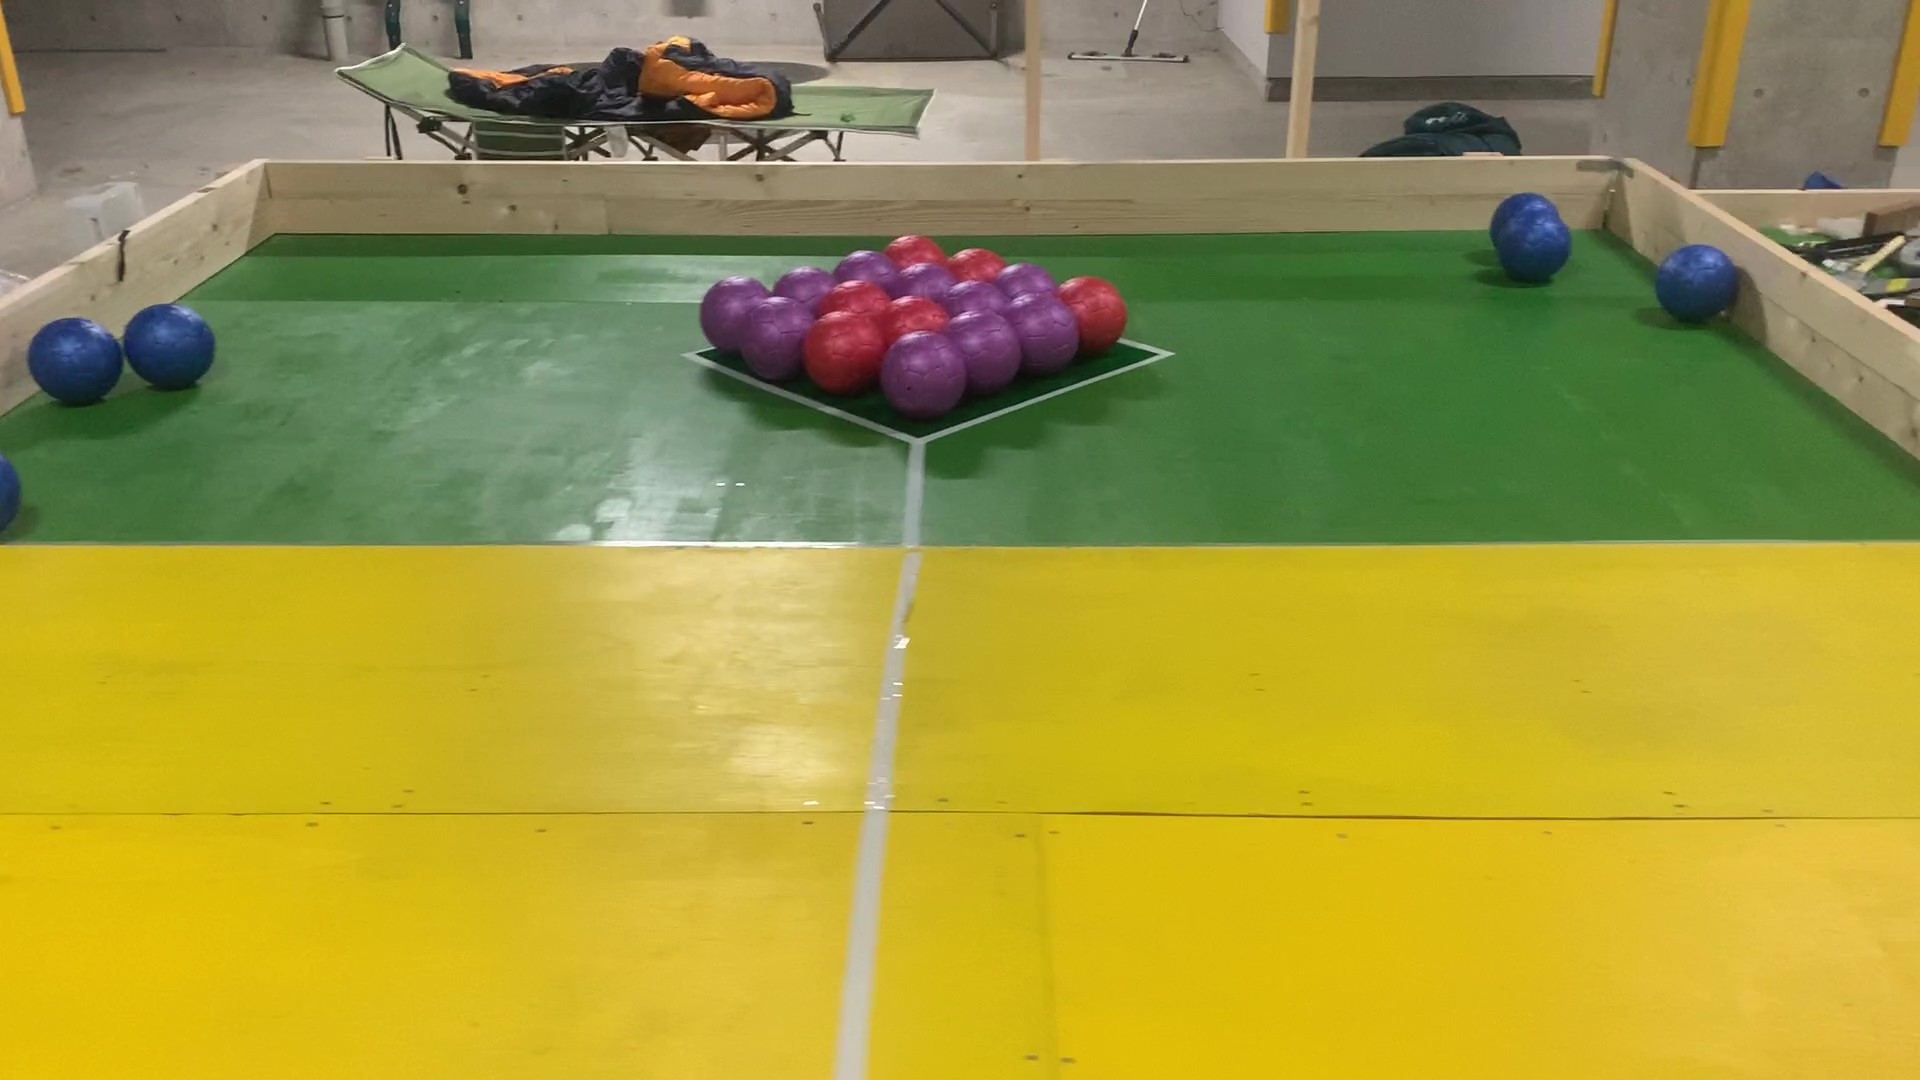blue: (28, 323, 120, 400), (131, 314, 206, 384), (1668, 247, 1730, 311), (1506, 220, 1565, 281), (1498, 189, 1563, 216), (0, 465, 20, 530)
purple: (893, 332, 952, 405), (967, 313, 1010, 386), (752, 303, 798, 371), (1025, 295, 1069, 361), (707, 281, 745, 357), (778, 265, 824, 301), (952, 281, 1004, 313), (1009, 264, 1054, 298), (843, 244, 885, 277), (902, 269, 949, 293)
red: (810, 315, 870, 380), (1077, 280, 1129, 351), (886, 233, 944, 262), (887, 295, 938, 326), (952, 245, 1002, 276), (835, 284, 876, 306)
